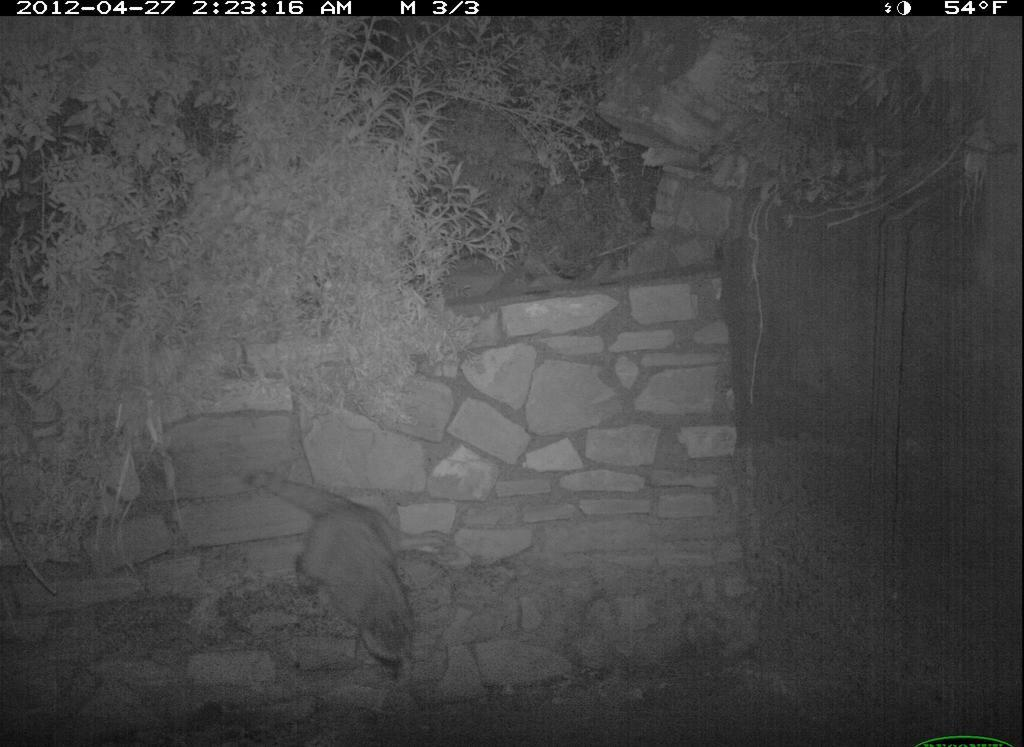raccoon: (235, 461, 427, 693)
